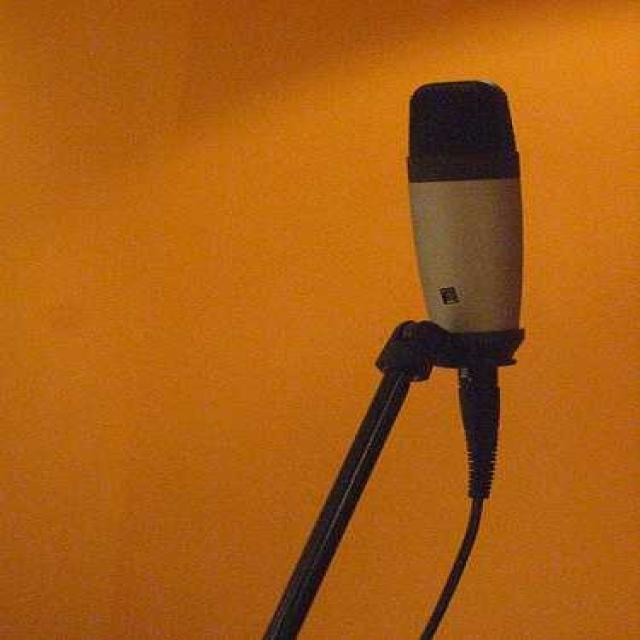microphone: (405, 70, 541, 366)
